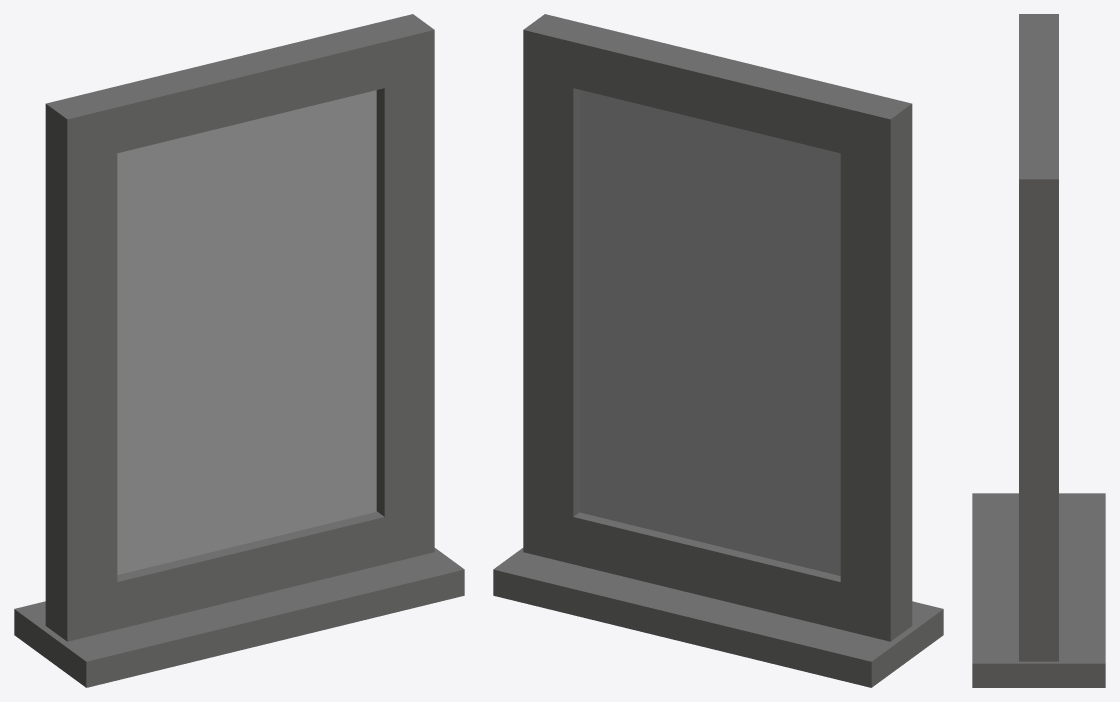
The model's file is Window_4B.fbx.
The picture shows the model from 3 angles, left to right: view 1: azimuth 30°, elevation 25°; view 2: azimuth 150°, elevation 25°; view 3: azimuth 270°, elevation 25°; orthographic projection. The views are drawn at different scales.
Parts seen in each view (by area): view 1: polySurface1616, Window_Glass_2; view 2: polySurface1616, Window_Glass_2; view 3: polySurface1616.
Part boxes in pixels (<box>): polySurface1616: <box>14,14,464,687</box>; Window_Glass_2: <box>117,90,376,574</box>; polySurface1616: <box>493,14,943,687</box>; Window_Glass_2: <box>580,90,840,575</box>; polySurface1616: <box>972,14,1105,687</box>.
Size of the model in its own units: 1.51 by 2.09 by 0.5.
2 materials, 1 textured.
